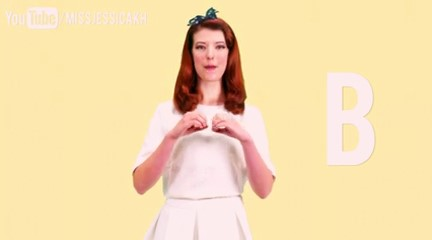B: (166, 108, 253, 147)
